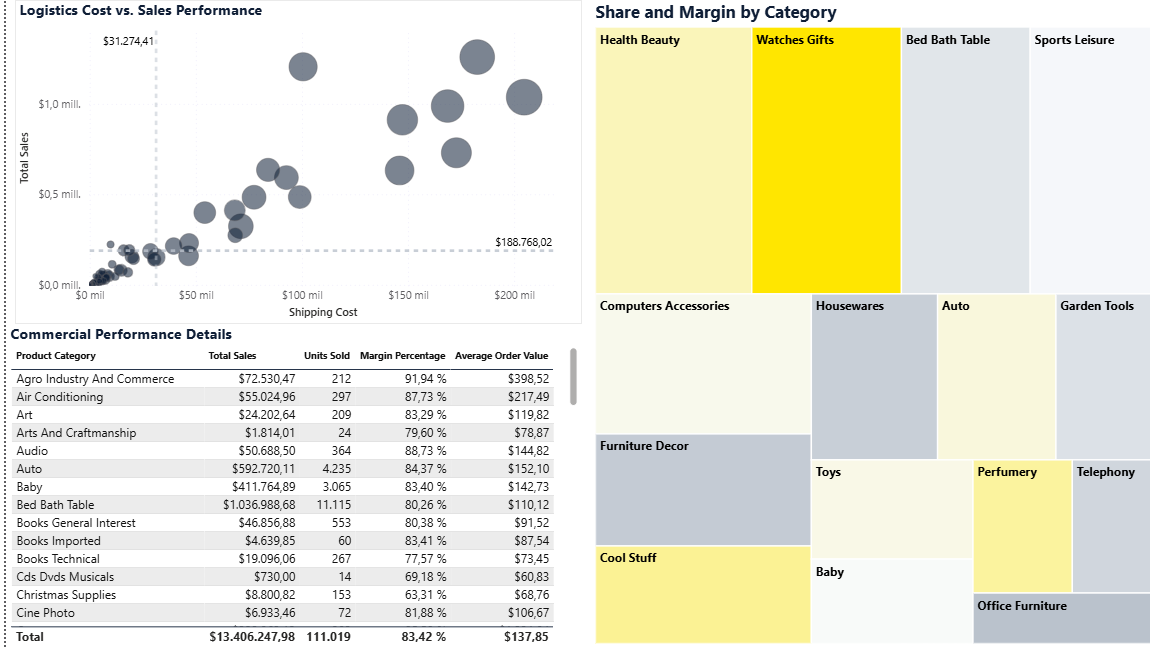

The dashboard page shown, as its layout file describes it:
{"tool":"tableau","page":{"name":"Product Portfolio","canvas":[1000,800],"ordinal":1},"visuals":[{"type":"worksheet","title":"PP -  Share and Margin by Category","mark":"Automatic","box":[2,14,993,419]},{"type":"worksheet","title":"PP - Logistics Cost vs. Sales Performance","mark":"Automatic","rows":["Calculation_0759790200111104"],"cols":["Calculation_0759790201061377"],"box":[569,449,425,344]},{"type":"worksheet","title":"PP - Commercial Performance Details","mark":"Automatic","rows":["product_category_name_english"],"box":[4,450,553,334]}]}

Visuals, with their boxes on the page's 1000x800 design canvas (x1, y1, x2, y2). These are canvas units, not pixel positions in the 1150x648 screenshot, which may show the page scaled, cropped or inside an application window:
"PP -  Share and Margin by Category" worksheet: BBox(2, 14, 995, 433)
"PP - Logistics Cost vs. Sales Performance" worksheet: BBox(569, 449, 994, 793)
"PP - Commercial Performance Details" worksheet: BBox(4, 450, 557, 784)
